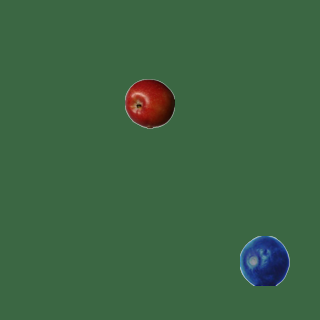Apple Braeburn: (124, 78, 174, 128)
Huckleberry: (239, 235, 289, 285)
